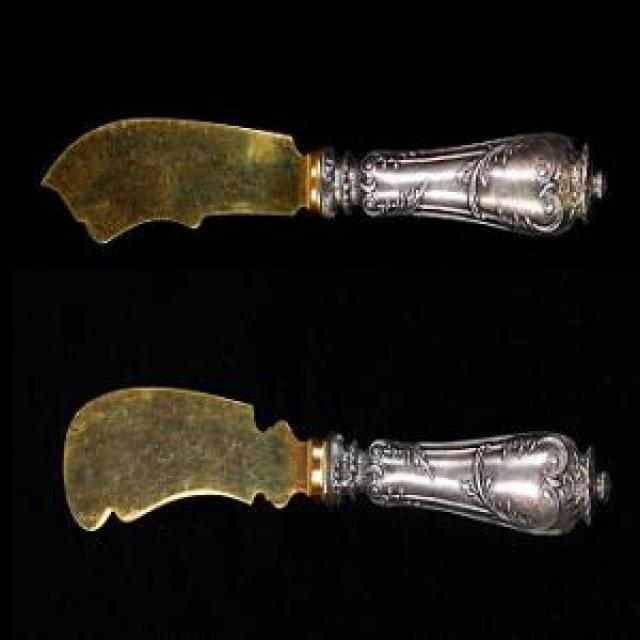knife: (60, 386, 614, 537), (38, 115, 612, 251)
